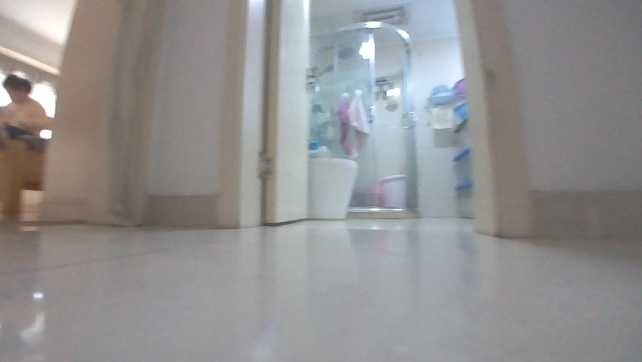door_anno: (238, 1, 314, 226)
toilet: (307, 156, 357, 221)
